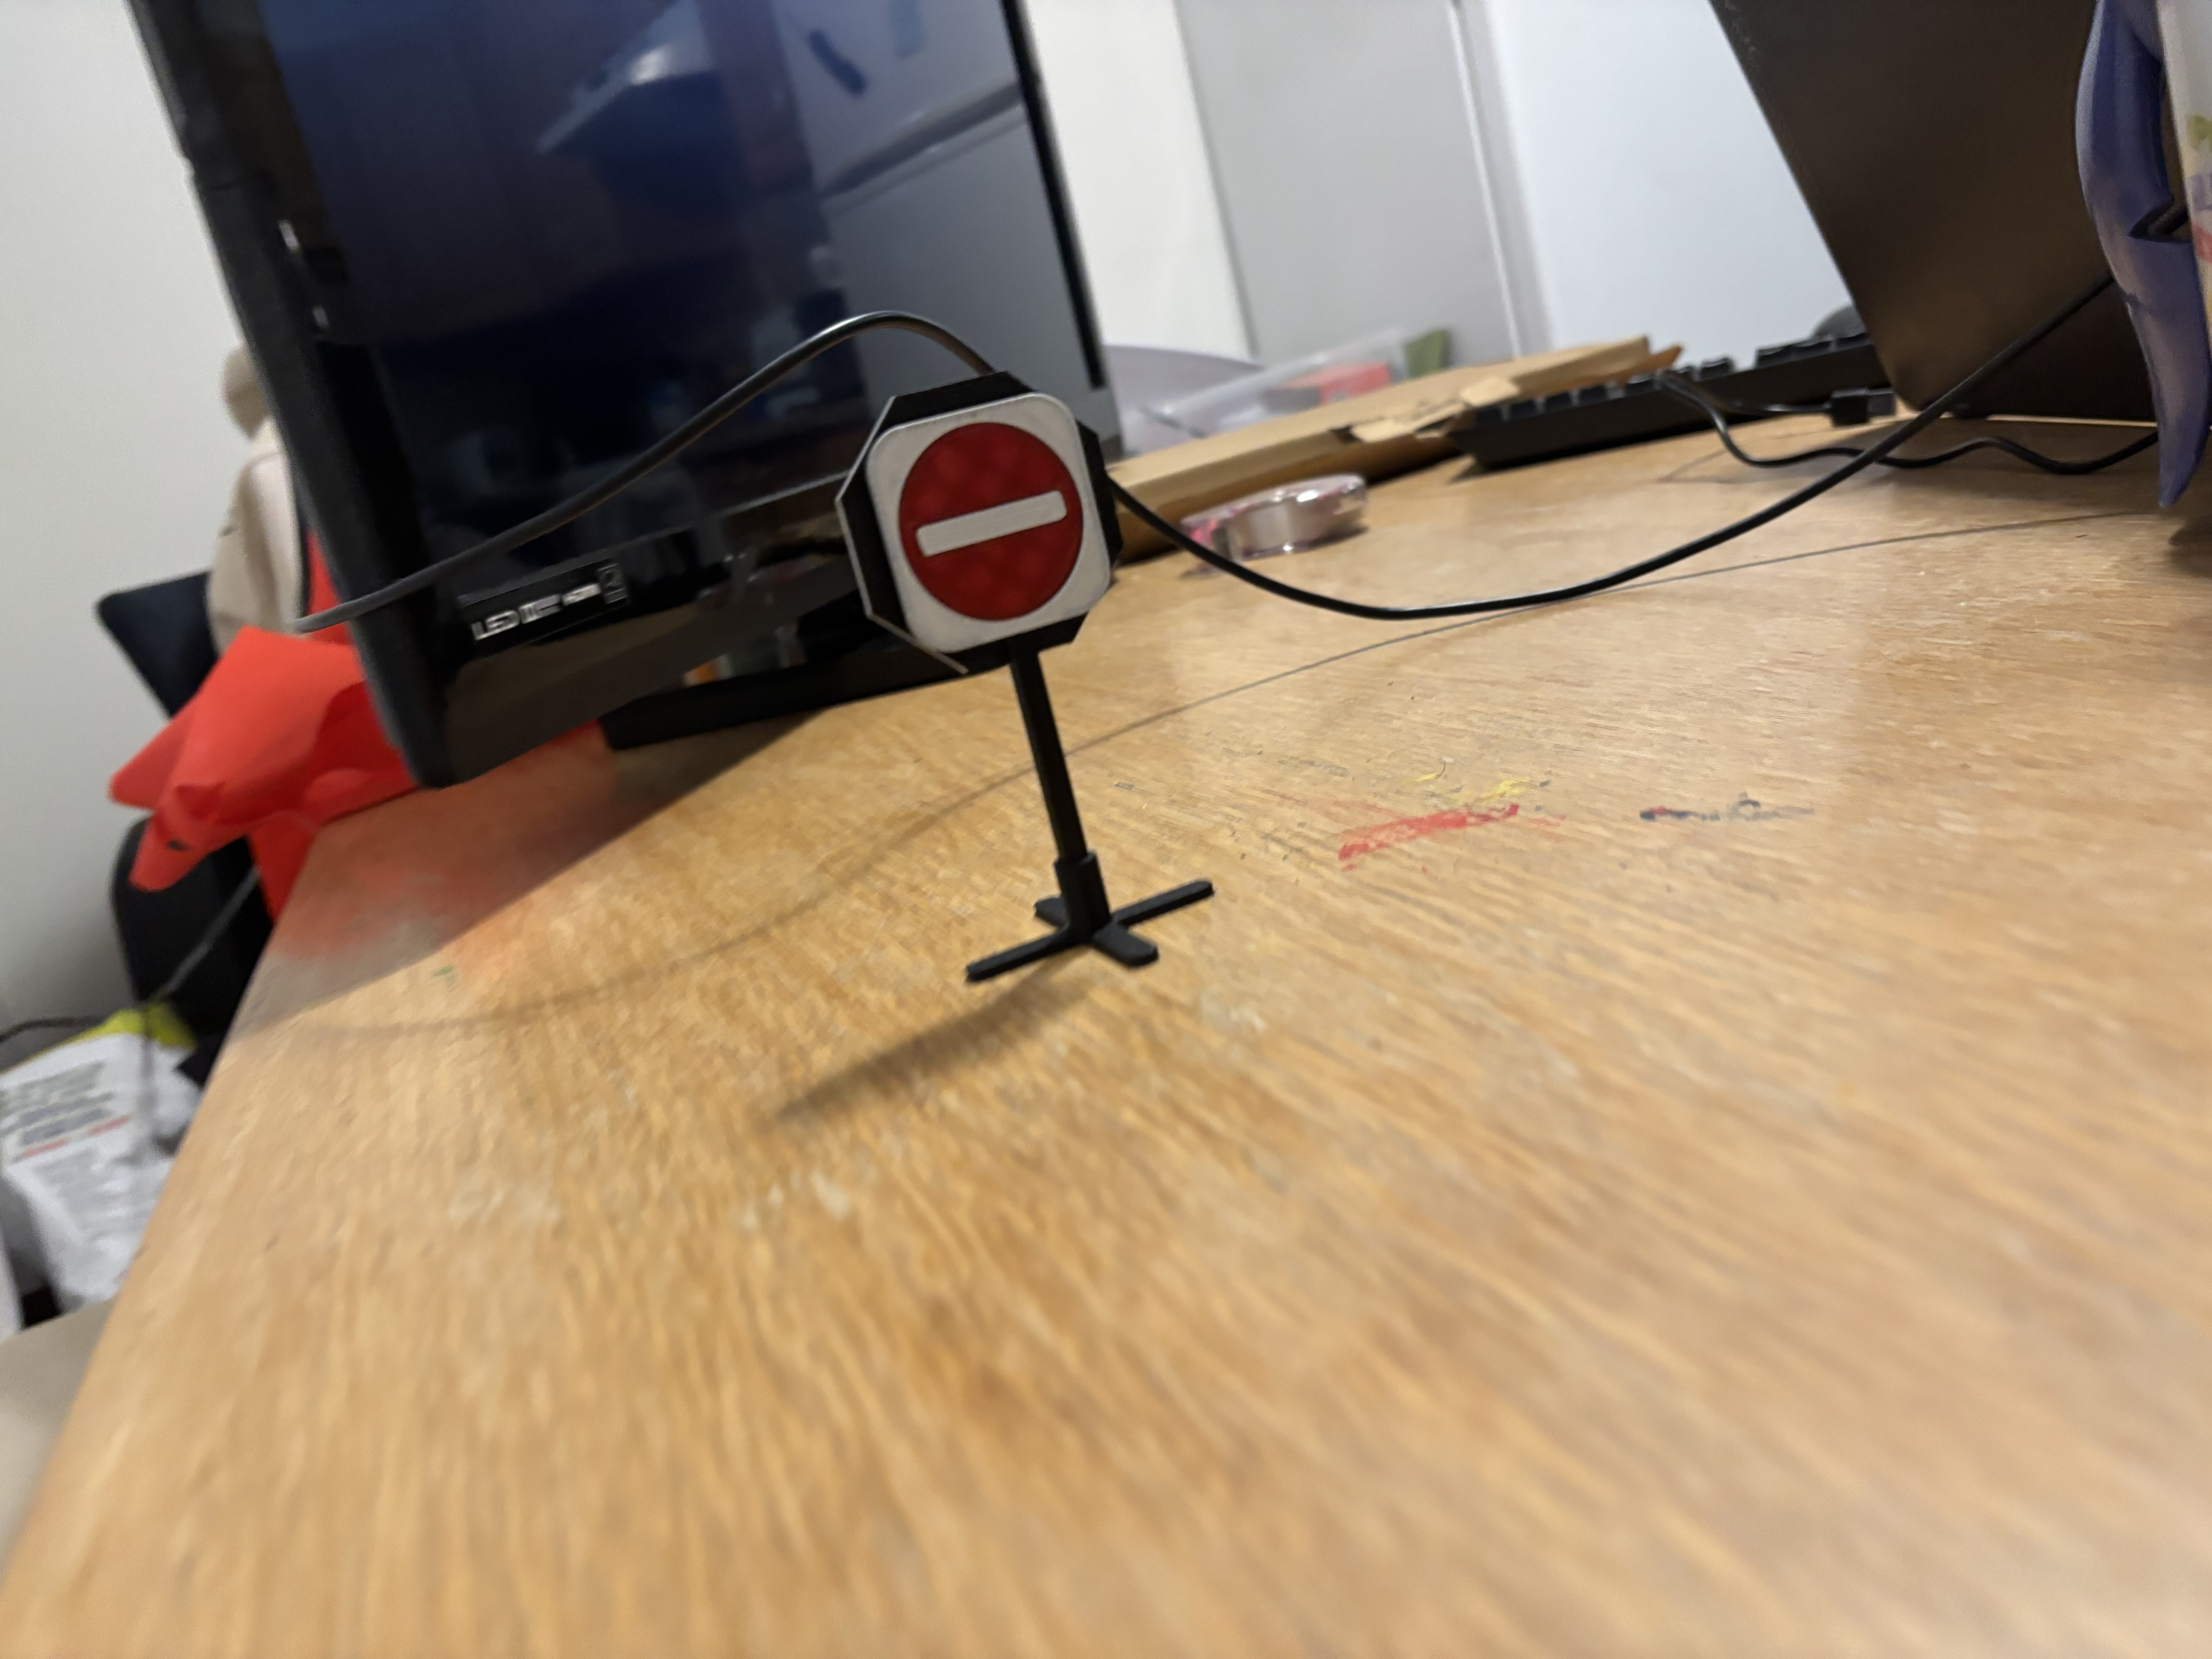sign_noentry: (845, 376, 1150, 653)
